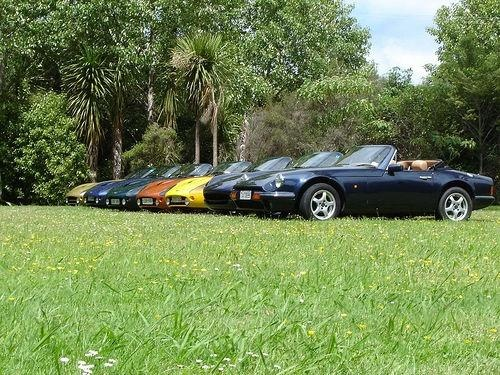car: (230, 143, 496, 220), (206, 151, 345, 216), (167, 161, 252, 211), (106, 164, 184, 210), (137, 163, 213, 210), (83, 167, 156, 208), (68, 180, 125, 207)
